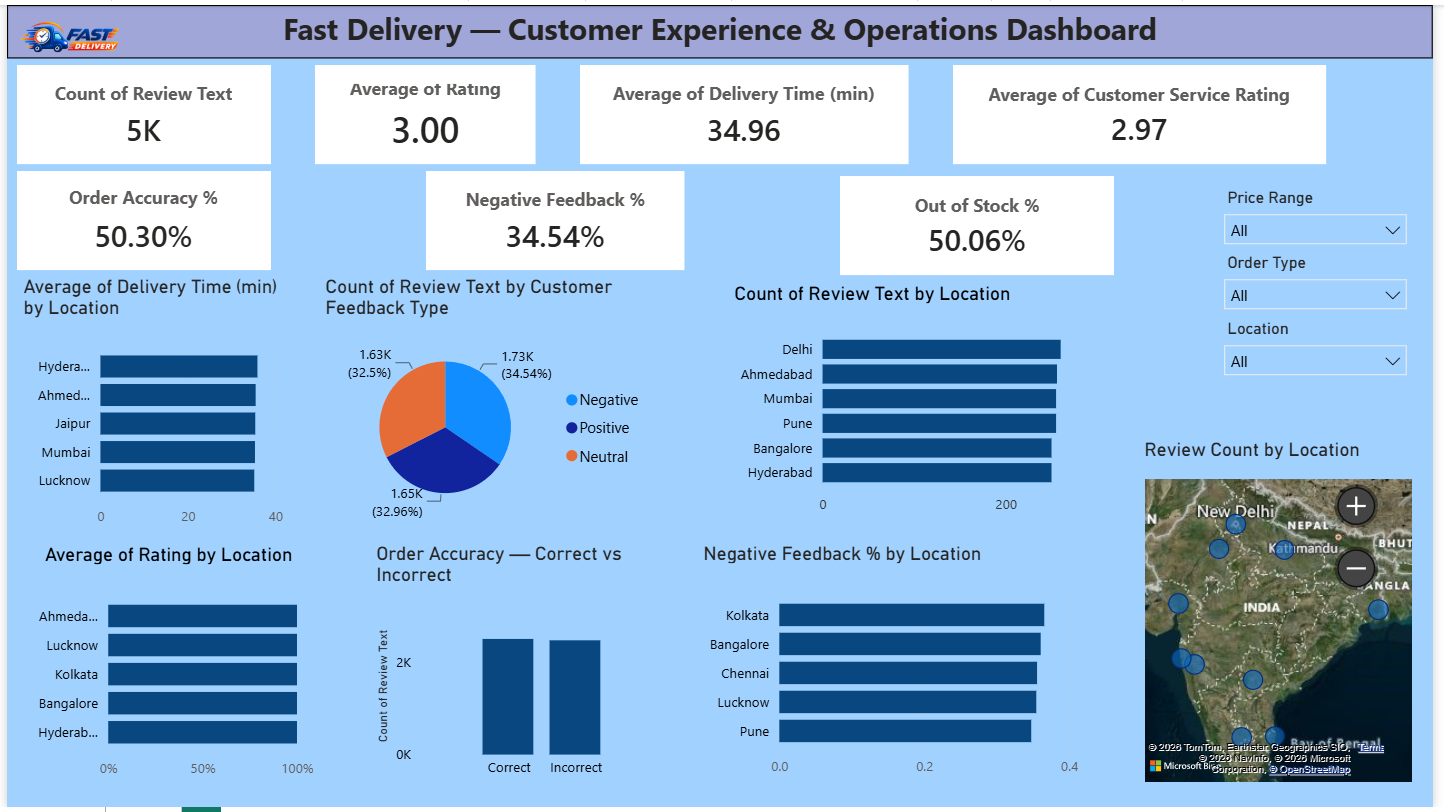

Layout of this report page (visuals, bound fields, positions):
{"tool":"powerbi","page":{"name":"Page 1","canvas":[1280,720],"ordinal":0},"visuals":[{"type":"cardVisual","title":"Average Rating","fields":{"Data":["Avg(Fast Delivery Agent Reviews.Rating)"]},"box":[276.2,53.5,198.4,88.5],"z":0},{"type":"cardVisual","title":"Average Delivery Time","fields":{"Data":["Avg(Fast Delivery Agent Reviews.Delivery Time (min))"]},"box":[514.5,53.5,294.7,88.5],"z":1000},{"type":"cardVisual","title":"Average Customer Service Rating","fields":{"Data":["Avg(Fast Delivery Agent Reviews.Customer Service Rating)"]},"box":[849.1,53.5,334.6,88.5],"z":2000},{"type":"cardVisual","title":"Order Accuracy %","fields":{"Data":["Fast Delivery Agent Reviews.Order Accuracy %"]},"box":[8.8,148.8,227.6,88.5],"z":3000},{"type":"textbox","box":[0,0,1280,48],"z":4000},{"type":"cardVisual","title":"Negative Feedback %","fields":{"Data":["Fast Delivery Agent Reviews.Negative Feedback %"]},"box":[375.9,148.8,232.5,88.5],"z":5000},{"type":"cardVisual","title":"Out of Stock %","fields":{"Data":["Fast Delivery Agent Reviews.Out of Stock %"]},"box":[748,153.7,246.1,88.5],"z":6000},{"type":"hundredPercentStackedBarChart","fields":{"Category":["Fast Delivery Agent Reviews.Location"],"Y":["Avg(Fast Delivery Agent Reviews.Rating)"]},"box":[9.4,482.6,270.5,220.1],"z":7000},{"type":"barChart","fields":{"Category":["Fast Delivery Agent Reviews.Location"],"Y":["Avg(Fast Delivery Agent Reviews.Delivery Time (min))"]},"box":[9.4,242.2,243.2,234.4],"z":8000},{"type":"donutChart","fields":{"Category":["Fast Delivery Agent Reviews.Customer Feedback Type"],"Y":["CountNonNull(Fast Delivery Agent Reviews.Review Text)"]},"box":[281,242.4,299.9,224.4],"z":9000},{"type":"lineClusteredColumnComboChart","title":"Order Accuracy — Correct vs Incorrect","fields":{"Category":["Fast Delivery Agent Reviews.Order Accuracy"],"Y":["CountNonNull(Fast Delivery Agent Reviews.Review Text)"]},"box":[326.8,482.1,267.5,220.8],"z":10000},{"type":"clusteredBarChart","fields":{"Category":["Fast Delivery Agent Reviews.Location"],"Y":["CountNonNull(Fast Delivery Agent Reviews.Review Text)"]},"box":[648.2,248.7,345.6,218.2],"z":11000},{"type":"cardVisual","fields":{"Data":["CountNonNull(Fast Delivery Agent Reviews.Review Text)"]},"box":[8.8,53.5,227.6,88.5],"z":12000},{"type":"slicer","fields":{"Values":["Fast Delivery Agent Reviews.Location"]},"box":[1082.7,277.4,184,60.1],"z":13000},{"type":"slicer","fields":{"Values":["Fast Delivery Agent Reviews.Order Type"]},"box":[1082.7,218.2,184,59.3],"z":14000},{"type":"slicer","fields":{"Values":["Fast Delivery Agent Reviews.Price Range"]},"box":[1082.7,159.8,184,58.4],"z":15000},{"type":"clusteredBarChart","fields":{"Category":["Fast Delivery Agent Reviews.Location"],"Y":["Fast Delivery Agent Reviews.Negative Feedback %"]},"box":[620.5,482.4,346.3,219.8],"z":16000},{"type":"map","fields":{"Category":["Fast Delivery Agent Reviews.Location"],"Size":["Fast Delivery Agent Reviews.Review Count"]},"box":[1016.3,388.7,250.5,314.2],"z":17000},{"type":"image","box":[0,0,113.1,60.1],"z":18000}]}

Visuals, with their boxes in screenshot pixels (x1, y1, x2, y2), scaled from the page's 1280x720 canvas onto the 1444x812 screenshot:
"Average Rating" cardVisual: 312/60/535/160
"Average Delivery Time" cardVisual: 580/60/913/160
"Average Customer Service Rating" cardVisual: 958/60/1335/160
"Order Accuracy %" cardVisual: 10/168/267/268
textbox: 0/0/1443/54
"Negative Feedback %" cardVisual: 424/168/686/268
"Out of Stock %" cardVisual: 844/173/1121/273
hundredPercentStackedBarChart - Fast Delivery Agent Reviews.Location x Avg(Fast Delivery Agent Reviews.Rating): 11/544/316/792
barChart - Fast Delivery Agent Reviews.Location x Avg(Fast Delivery Agent Reviews.Delivery Time (min)): 11/273/285/537
donutChart - Fast Delivery Agent Reviews.Customer Feedback Type x CountNonNull(Fast Delivery Agent Reviews.Review Text): 317/273/655/526
"Order Accuracy — Correct vs Incorrect" lineClusteredColumnComboChart: 369/544/670/793
clusteredBarChart - Fast Delivery Agent Reviews.Location x CountNonNull(Fast Delivery Agent Reviews.Review Text): 731/280/1121/527
cardVisual - CountNonNull(Fast Delivery Agent Reviews.Review Text): 10/60/267/160
slicer - Fast Delivery Agent Reviews.Location: 1221/313/1429/381
slicer - Fast Delivery Agent Reviews.Order Type: 1221/246/1429/313
slicer - Fast Delivery Agent Reviews.Price Range: 1221/180/1429/246
clusteredBarChart - Fast Delivery Agent Reviews.Location x Fast Delivery Agent Reviews.Negative Feedback %: 700/544/1091/792
map - Fast Delivery Agent Reviews.Location x Fast Delivery Agent Reviews.Review Count: 1147/438/1429/793
image: 0/0/128/68
